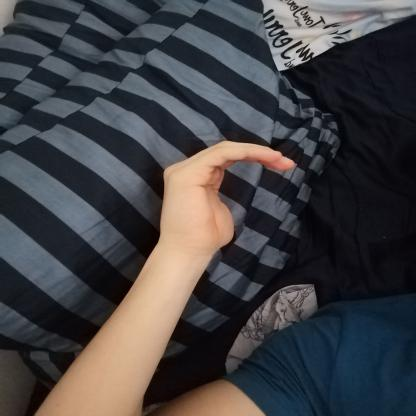HAA: (147, 130, 302, 261)
